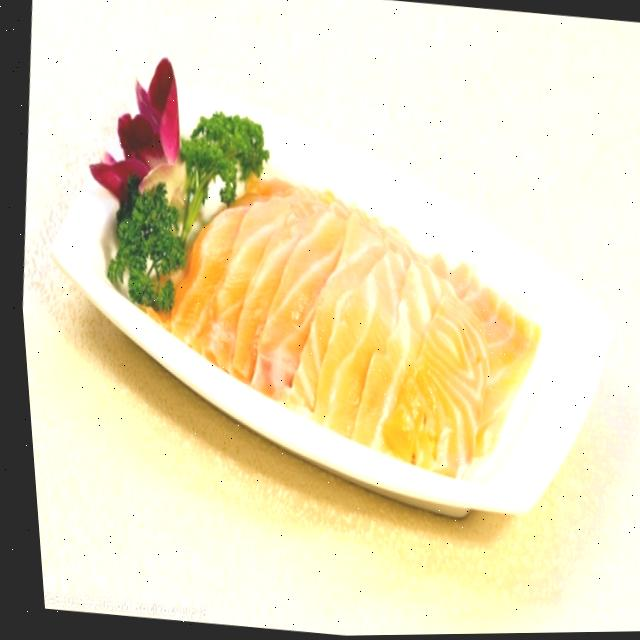熟制海鲜: (15, 16, 640, 548)
